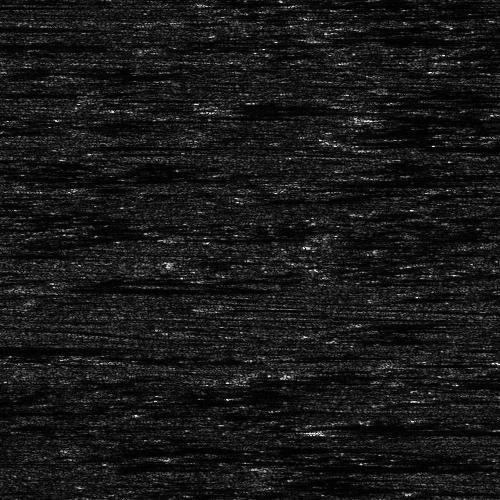object: (159, 455, 398, 478), (269, 422, 374, 439), (216, 371, 341, 384), (339, 106, 412, 125), (32, 442, 157, 453), (0, 280, 81, 295), (0, 340, 16, 353), (377, 145, 408, 148)
shadow: (279, 455, 500, 478), (95, 442, 399, 453), (39, 280, 246, 295), (321, 422, 500, 439), (376, 106, 500, 125), (0, 340, 173, 353), (279, 371, 419, 384), (0, 0, 73, 8), (393, 145, 500, 148), (0, 42, 104, 45), (0, 24, 61, 29)
